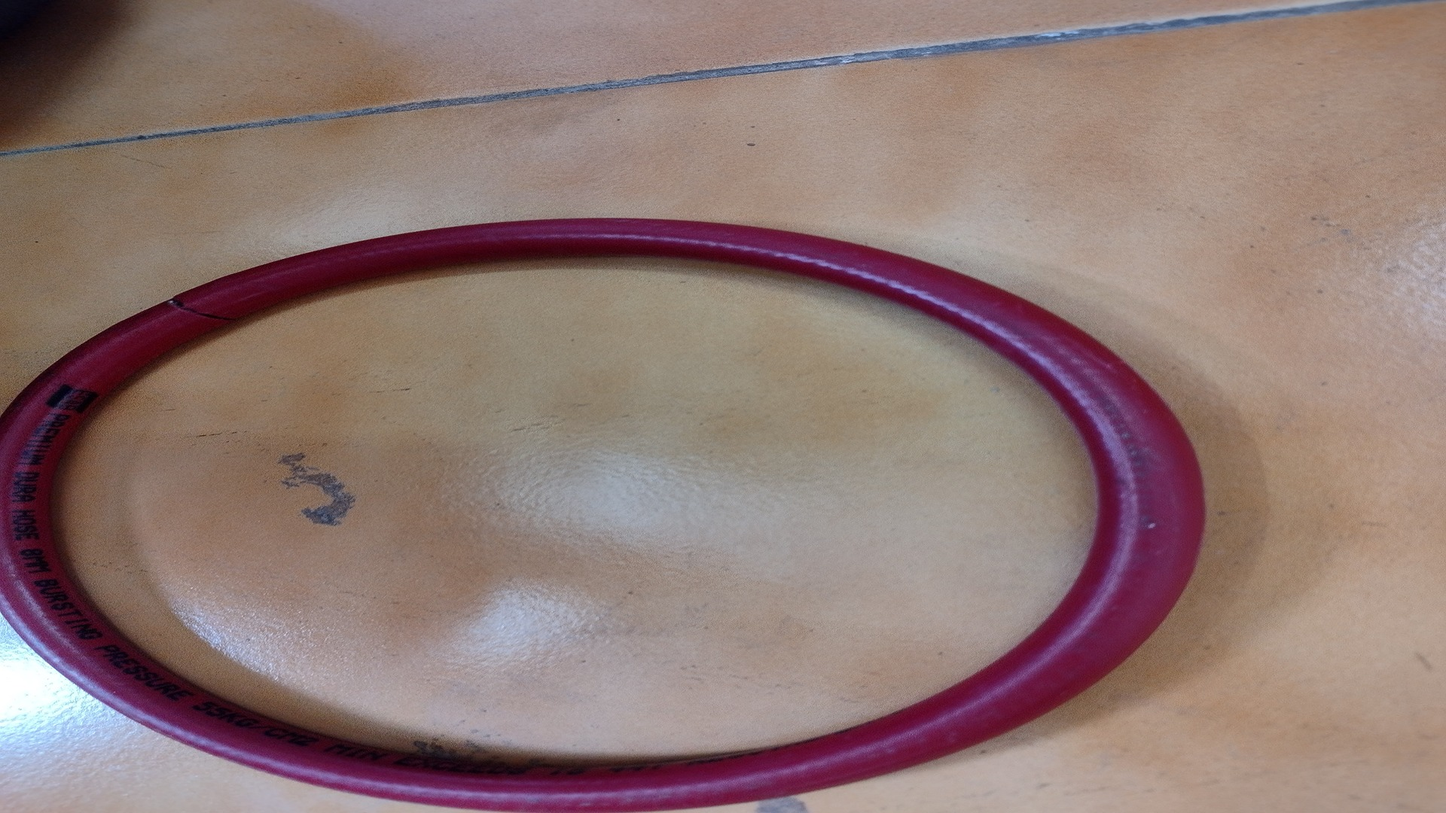Red ring: (3, 218, 1207, 808)
